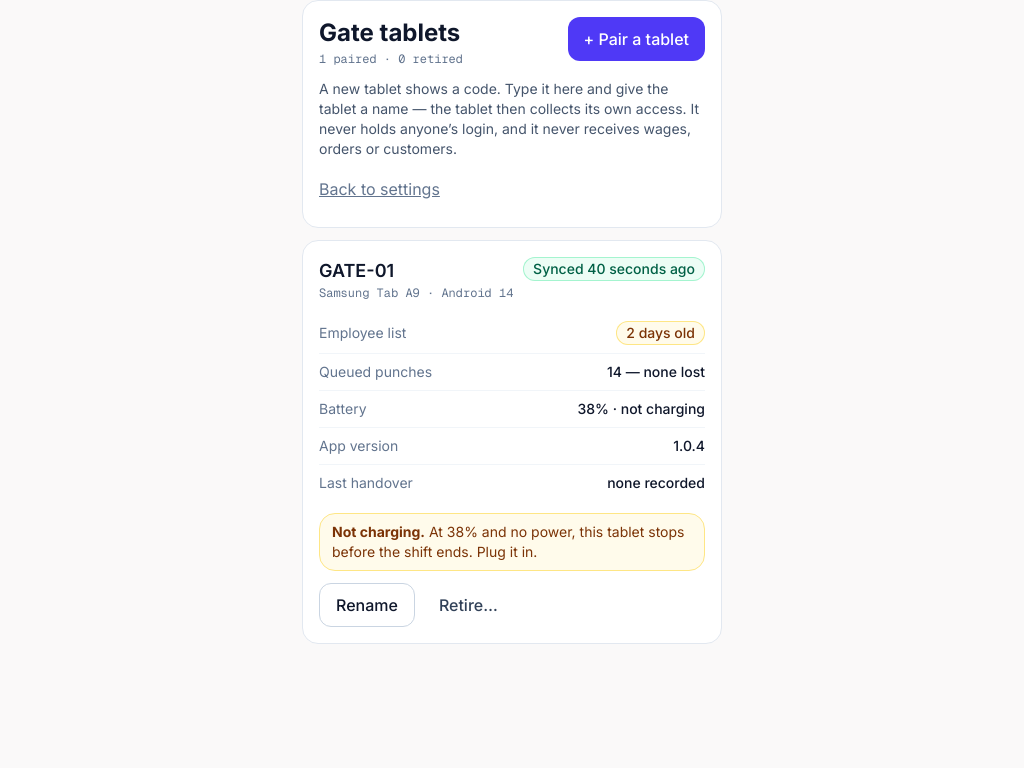
Scenario: retiring (D18) › keeps the panel open and says why when the server refuses
What coordinates should you click on to do the following:
click the button "Retire…"
I would click on:
 (468, 605)
Its box is [423, 583, 514, 627].
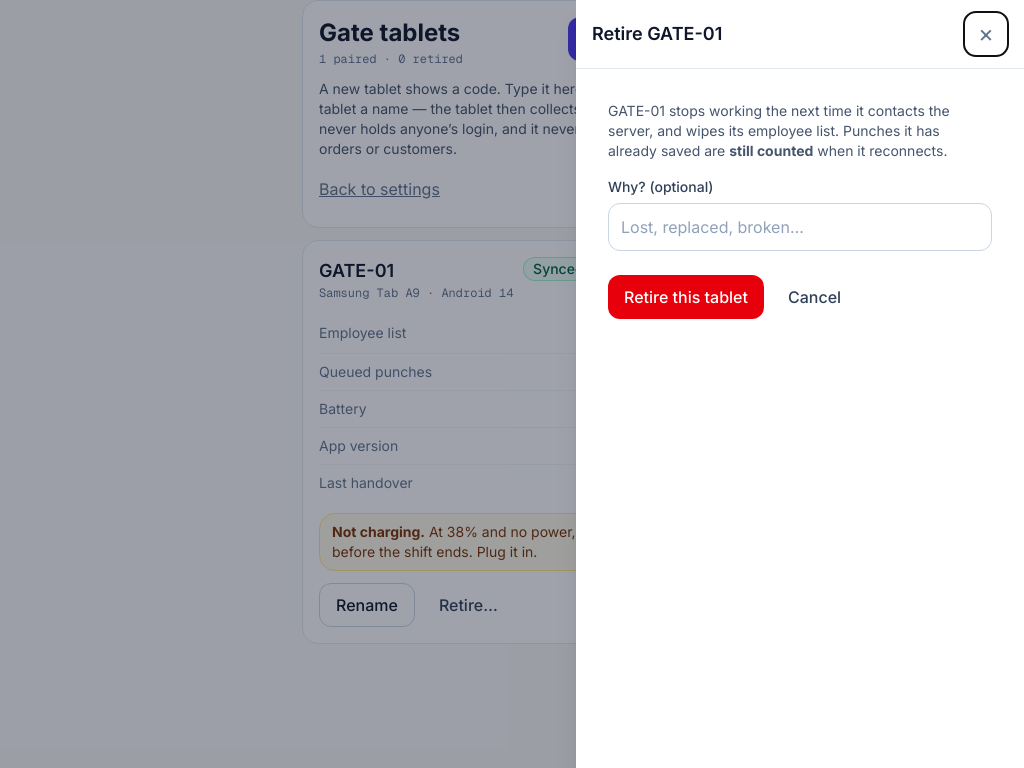
What coordinates should you click on to do the following:
click the button "Retire this tablet"
I would click on:
 (686, 297)
Its box is [608, 275, 764, 319].
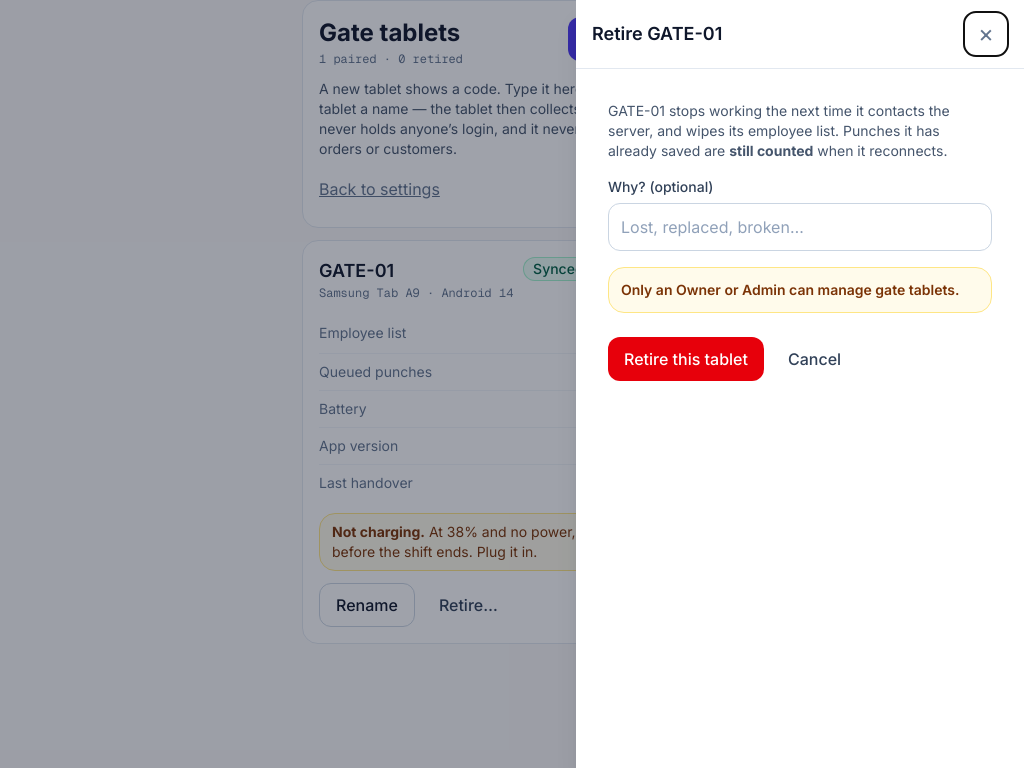
Expected: the message shows "Only an Owner or Admin", [621, 281, 960, 298]
